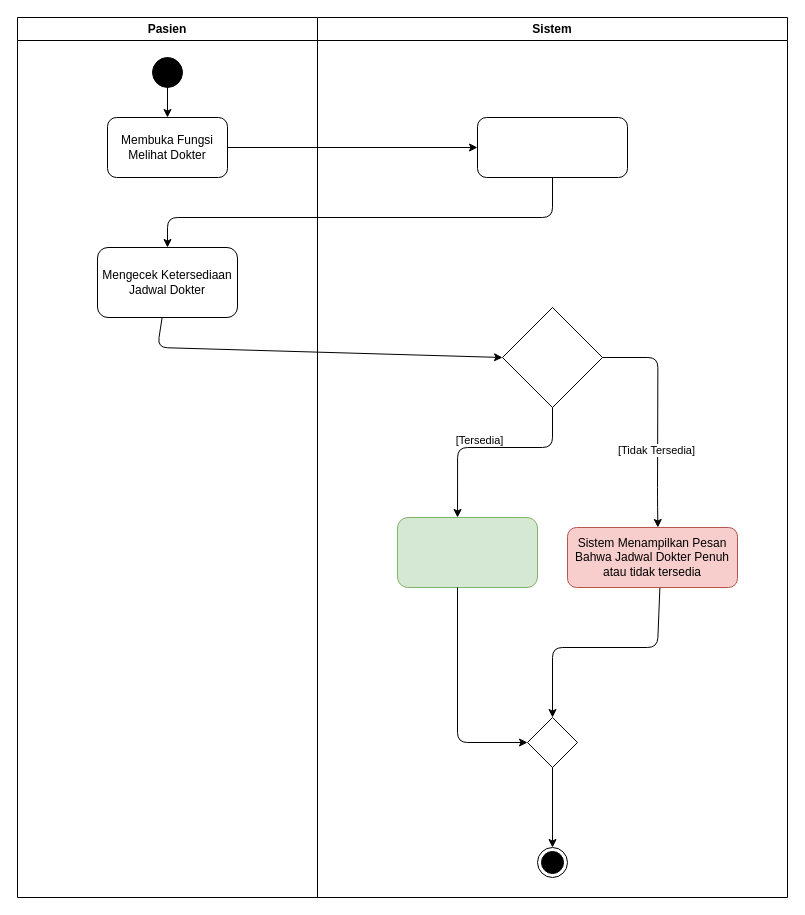
The diagram is 805 pixels wide and 915 high, and some of its shapes have lost their labels. Here are the shapes that lost their labels. From the top down, the centre of each, then its label:
At (x=552, y=147): "Sistem Menampilkan Daftar Jadwal Dokter".
At (x=552, y=357): "Jadwal Dokter Tersedia?".
At (x=467, y=552): "Sistem Menampilkan Jadwal Dokter Yang Tersedia".
